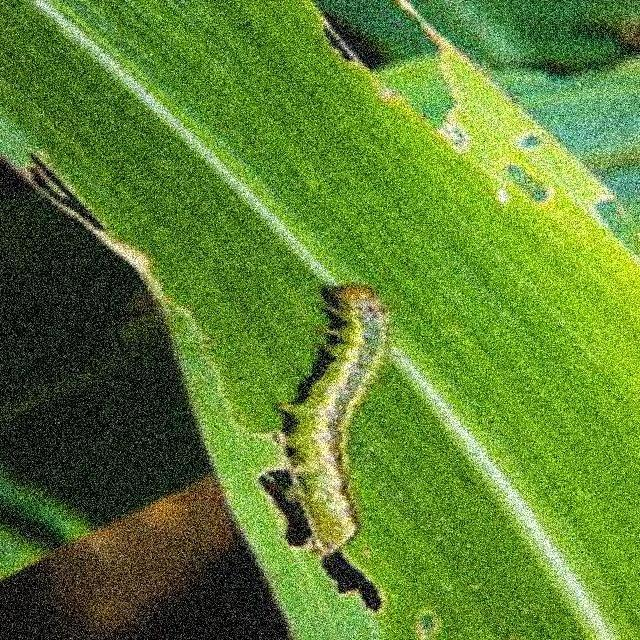worm: (254, 281, 391, 613)
